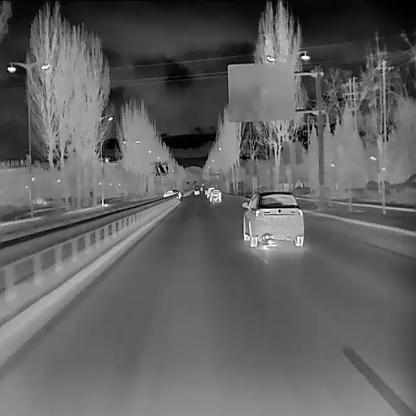car: (241, 189, 304, 246), (162, 187, 181, 199), (208, 188, 221, 201), (206, 186, 215, 198), (193, 187, 200, 193), (204, 187, 207, 195), (200, 185, 203, 190), (202, 183, 204, 186)
